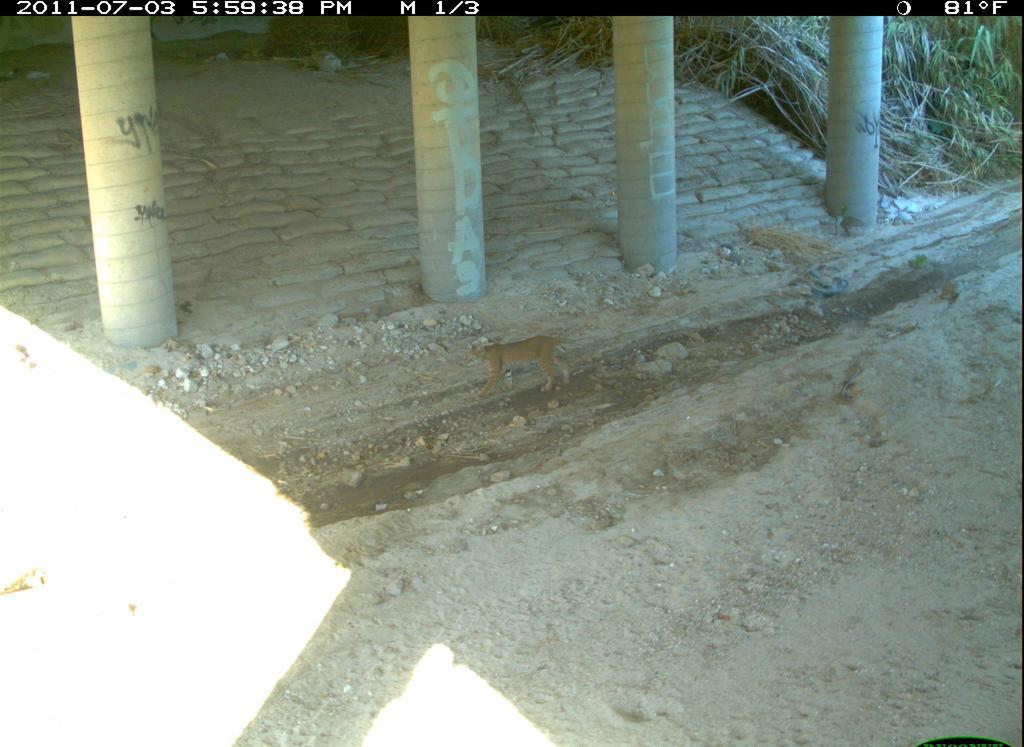bobcat: (925, 658, 1024, 747)
